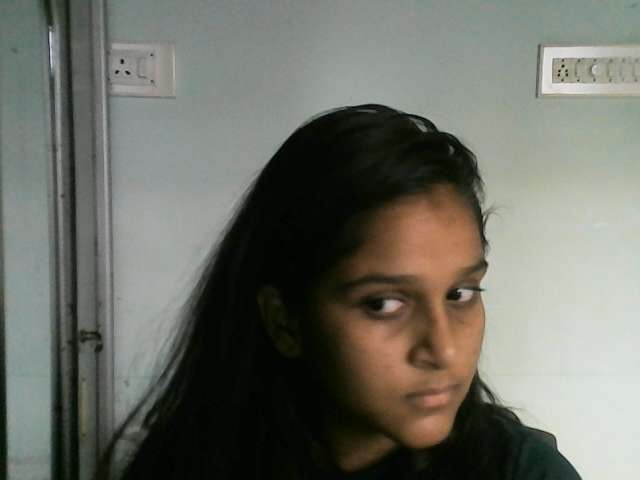face: (303, 183, 488, 446)
